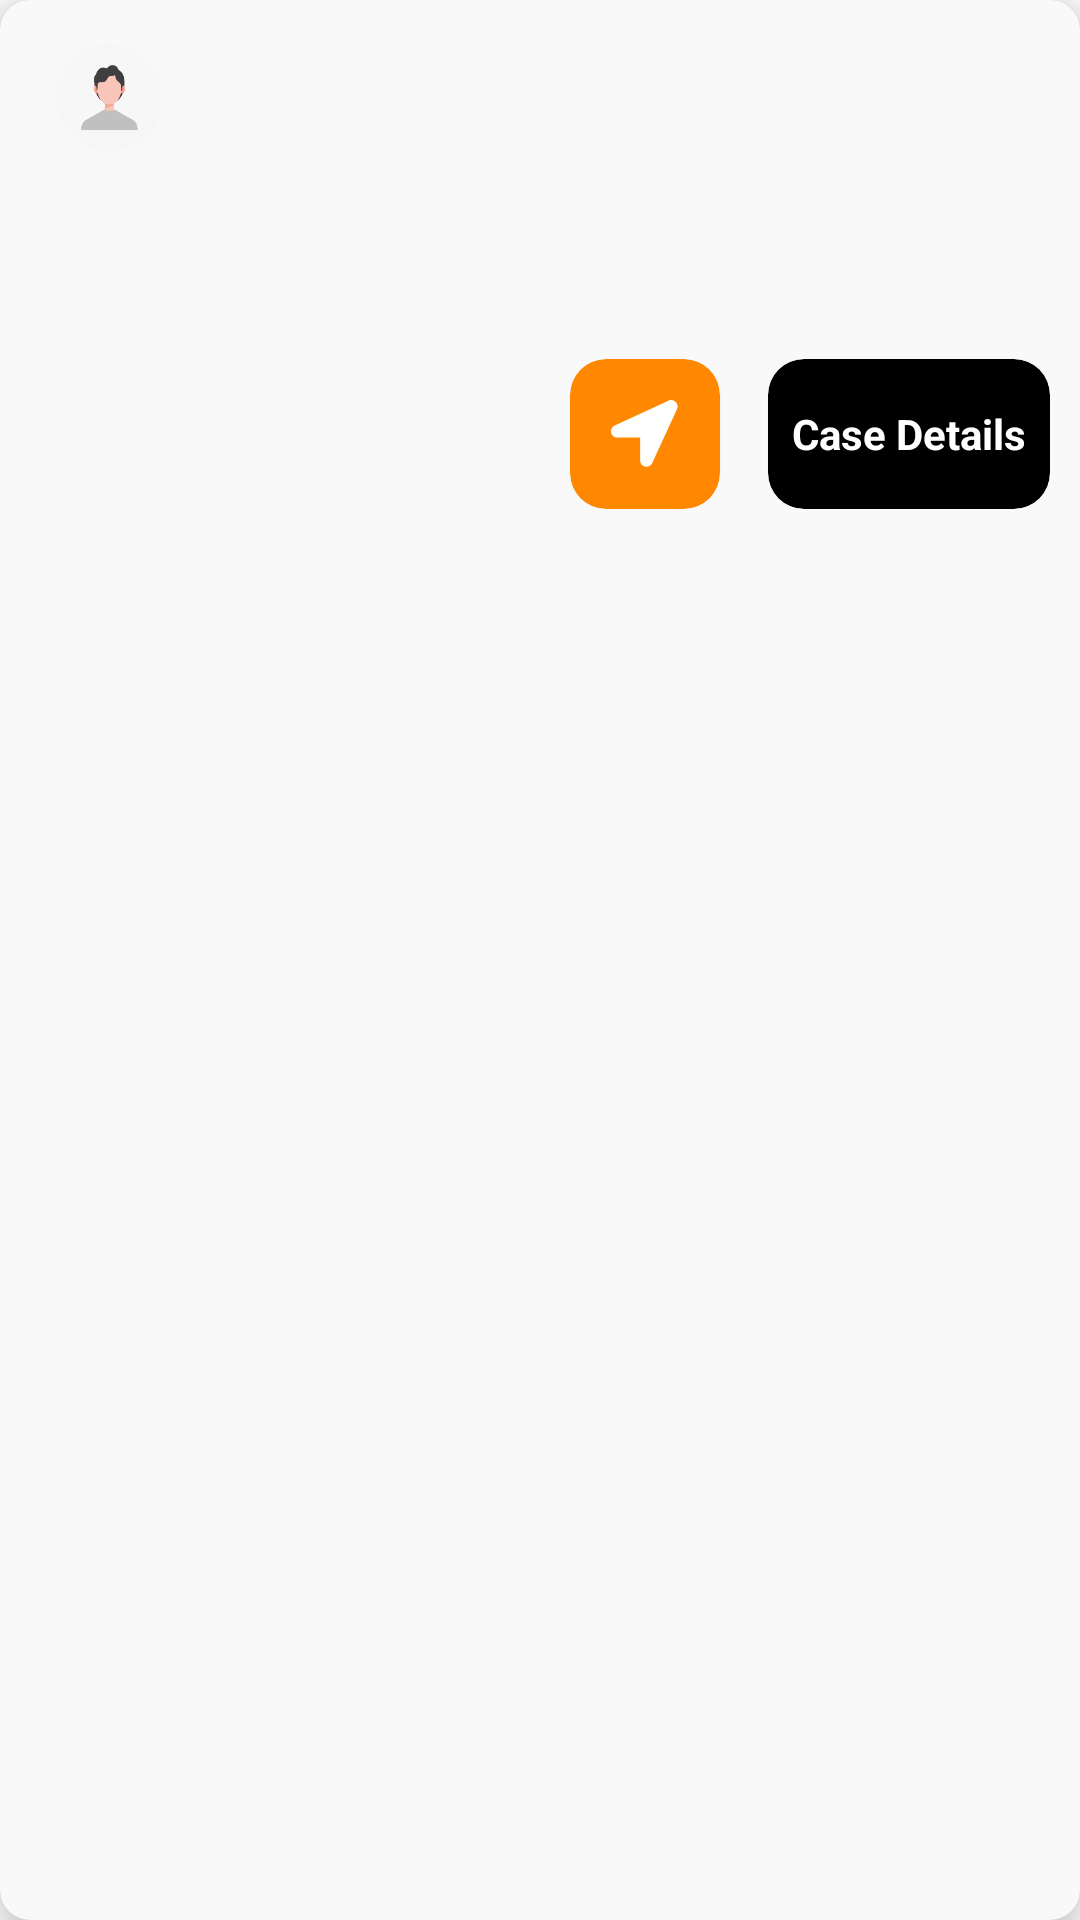

Screen size 1080×1920. Icon name, then its center in pixels as (x,y):
directions: (644,433)
profile place holder: (109,97)
